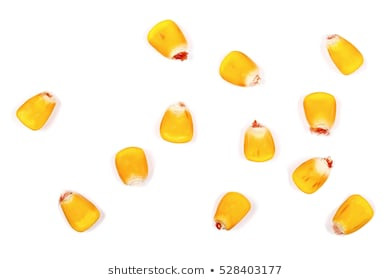corn: (331, 194, 376, 241), (322, 30, 365, 77), (55, 190, 100, 234), (217, 49, 265, 90), (299, 91, 342, 135), (148, 17, 188, 64), (14, 91, 58, 133), (157, 99, 197, 144), (291, 154, 334, 195), (112, 144, 151, 187), (214, 189, 252, 231), (242, 121, 276, 164)
